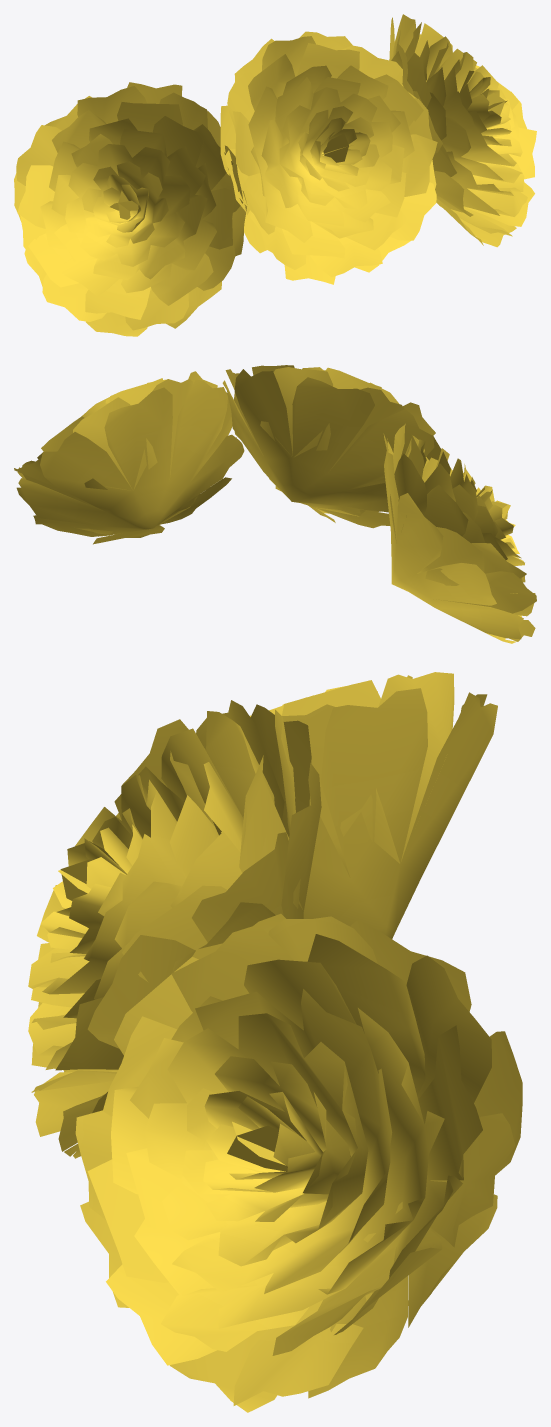
The model's file is pm0356_00_Rig.fbx.
The picture shows the model from 3 angles, top to bottom: view 1: azimuth 30°, elevation 25°; view 2: azimuth 150°, elevation 25°; view 3: azimuth 270°, elevation 25°; orthographic projection. The views are drawn at different scales.
Parts seen in each view (by area): view 1: doodad_diadelosmuertos_2022_flower (1), doodad_diadelosmuertos_2022_flower, doodad_diadelosmuertos_2022_flower (2); view 2: doodad_diadelosmuertos_2022_flower (2), doodad_diadelosmuertos_2022_flower, doodad_diadelosmuertos_2022_flower (1); view 3: doodad_diadelosmuertos_2022_flower (2), doodad_diadelosmuertos_2022_flower, doodad_diadelosmuertos_2022_flower (1).
Part boxes in pixels (x1,y1,x2,y2): doodad_diadelosmuertos_2022_flower (1): (14,82,247,336); doodad_diadelosmuertos_2022_flower: (220,31,437,284); doodad_diadelosmuertos_2022_flower (2): (389,14,536,247); doodad_diadelosmuertos_2022_flower (2): (14,371,244,544); doodad_diadelosmuertos_2022_flower: (222,365,441,528); doodad_diadelosmuertos_2022_flower (1): (383,423,536,643); doodad_diadelosmuertos_2022_flower (2): (75,913,522,1412); doodad_diadelosmuertos_2022_flower: (28,700,321,1158); doodad_diadelosmuertos_2022_flower (1): (250,672,497,938).
Bounding box in the file's own units: 0.5777 × 0.2571 × 0.2431.
